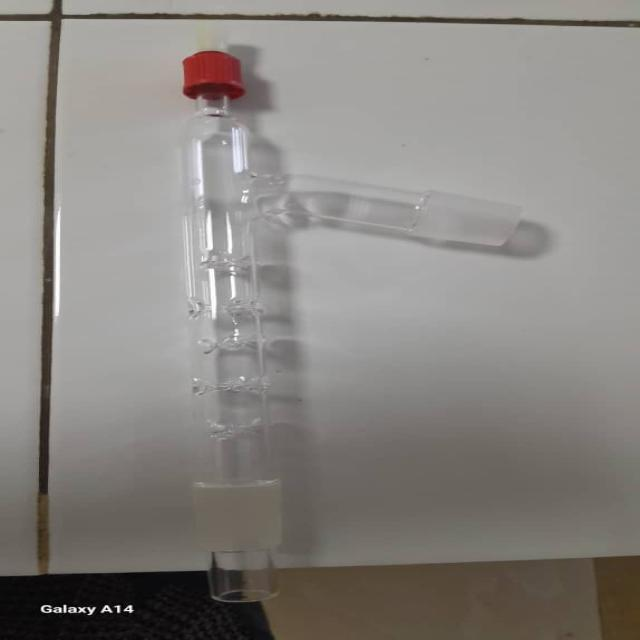Atmospherical Fractional Distillation: (146, 40, 544, 603)
